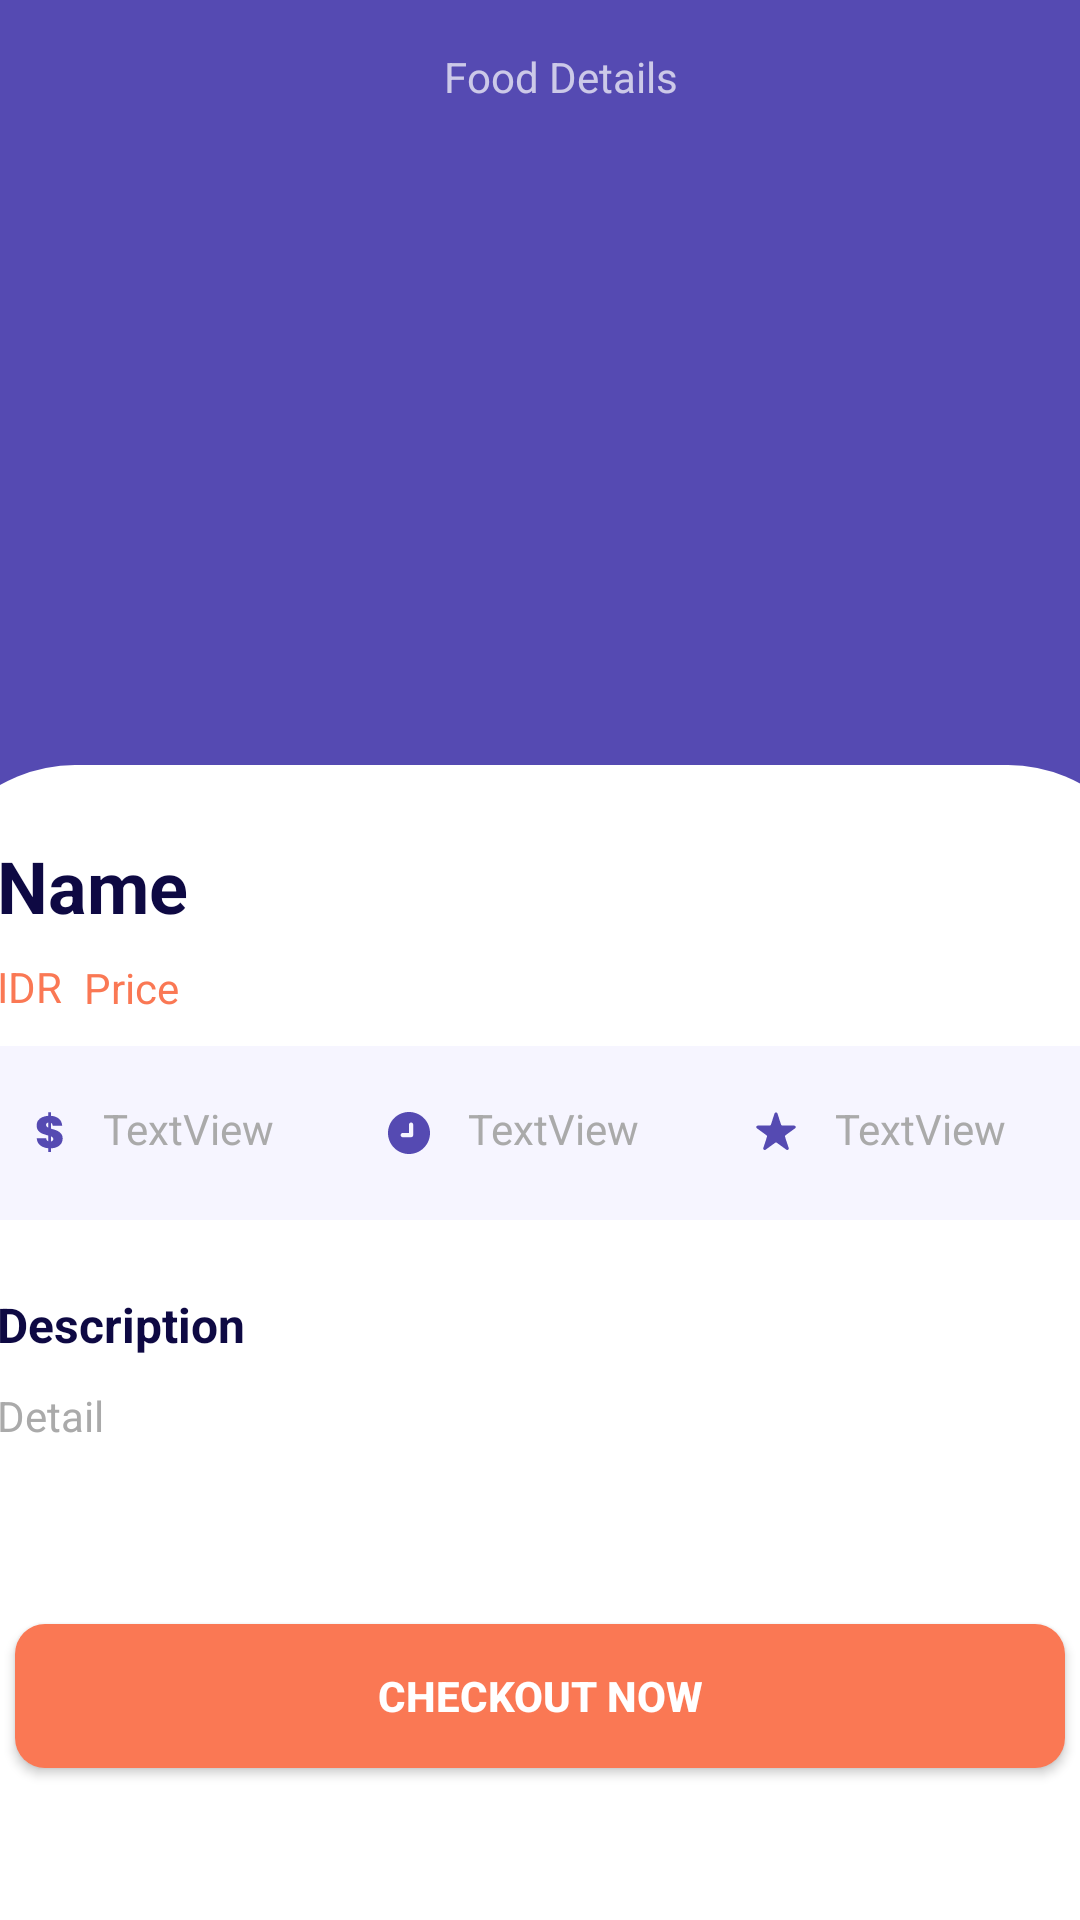

Icon bounding boxes for this 1080px x 1920px phone screenshot, format (x1, y1, x2, y2):
dollar: (36, 1112, 63, 1152)
star: (756, 1112, 796, 1150)
timer: (388, 1112, 430, 1154)
